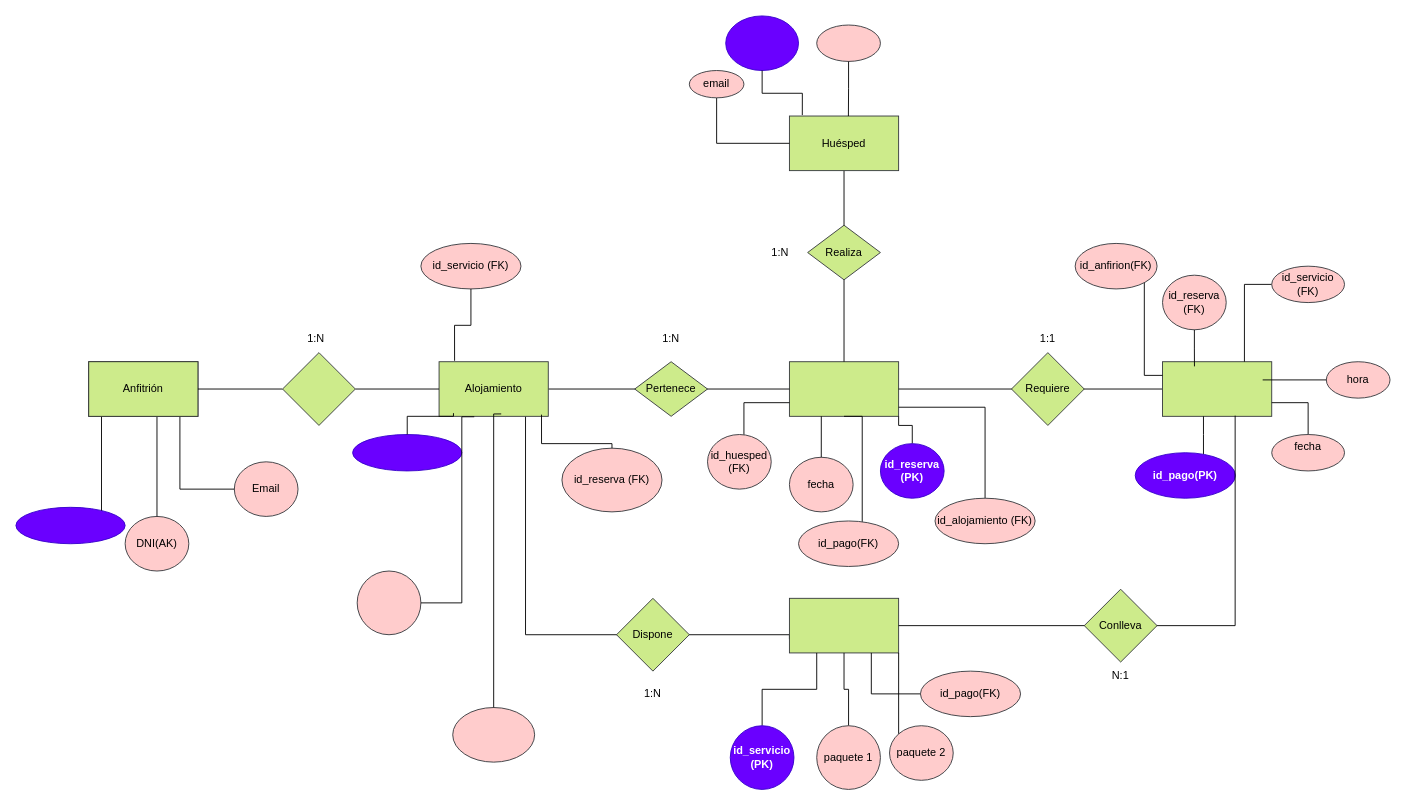
Image size: 1406x805. Some labels were removed from this diagram. Here are the shapes that lost their labels. From the top down, the box of each, then its label:
(725, 15, 799, 71): id_huesped (PK)
(816, 24, 880, 61): DNI (AK)
(282, 352, 355, 425): Tiene
(789, 361, 899, 416): Reserva
(1162, 361, 1272, 416): Pago
(352, 434, 462, 471): ID_alojamiento (PK)
(15, 506, 125, 544): id_anfitrion ( PK)
(356, 570, 421, 635): id_anfitrion (F K)
(789, 597, 899, 653): Servicio
(452, 707, 535, 762): Direccion(AK)
